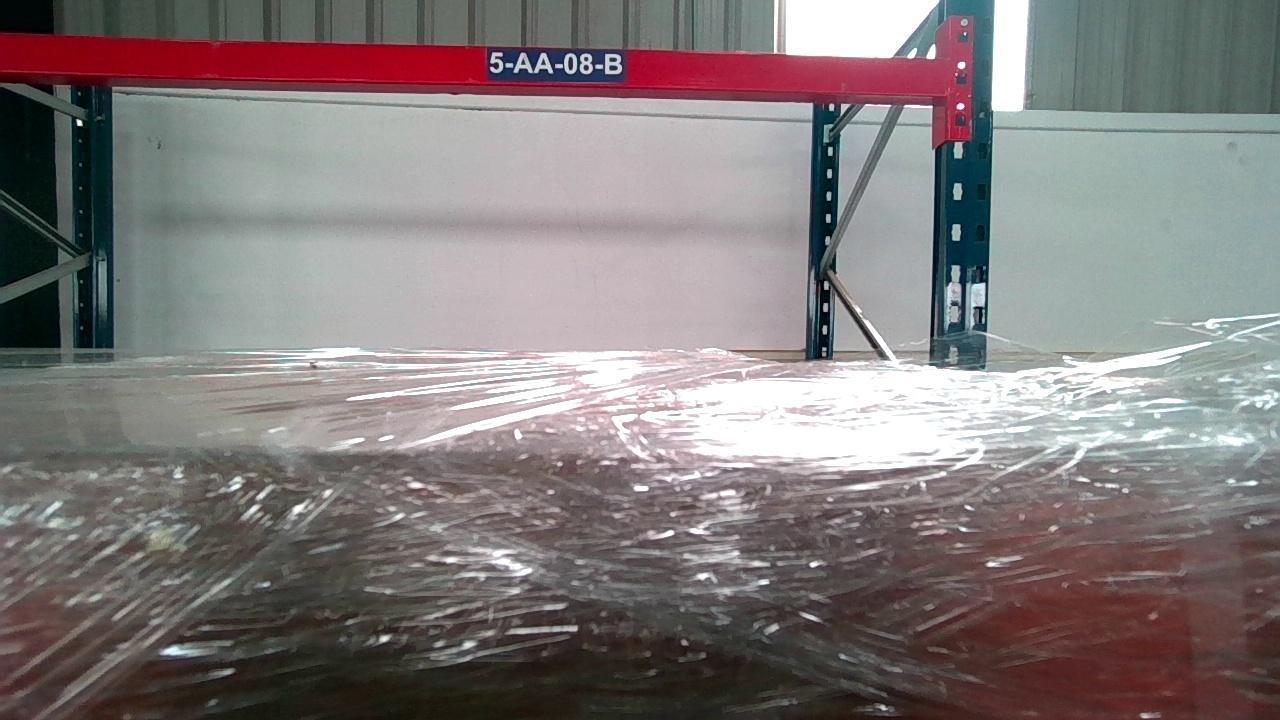h_rack: (0, 36, 945, 97)
